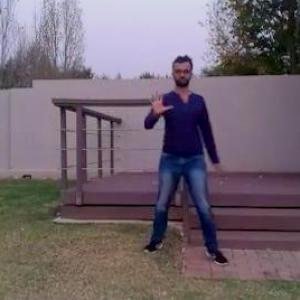follow_hand: (143, 83, 176, 120)
